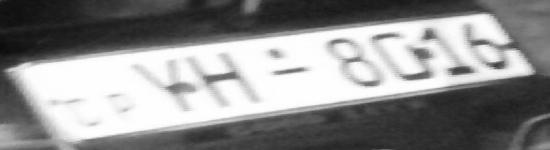-: (270, 64, 313, 78)
0: (361, 28, 446, 86)
1: (409, 24, 482, 80)
6: (442, 18, 523, 76)
8: (314, 33, 398, 93)
C: (63, 98, 104, 128)
H: (184, 52, 265, 108)
P: (106, 94, 140, 124)
Y: (128, 58, 197, 112)
